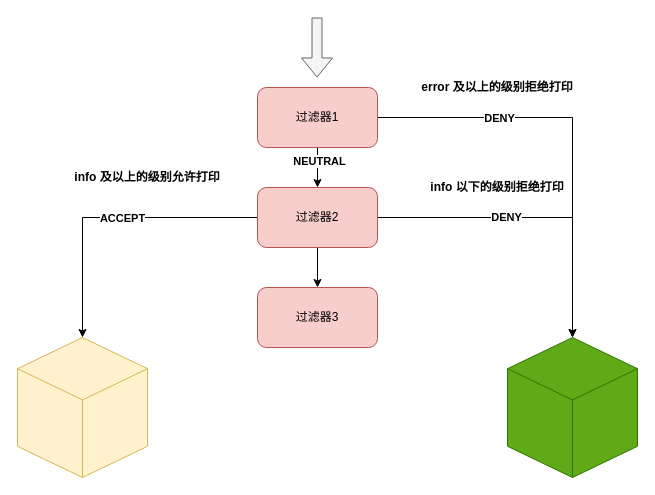
The diagram is 655 pixels wide and 495 high, and some of its shapes have lost their labels. Each missing label, with the box of its shape:
可打印: (16, 336, 148, 478)
拒绝打印: (506, 336, 638, 478)
